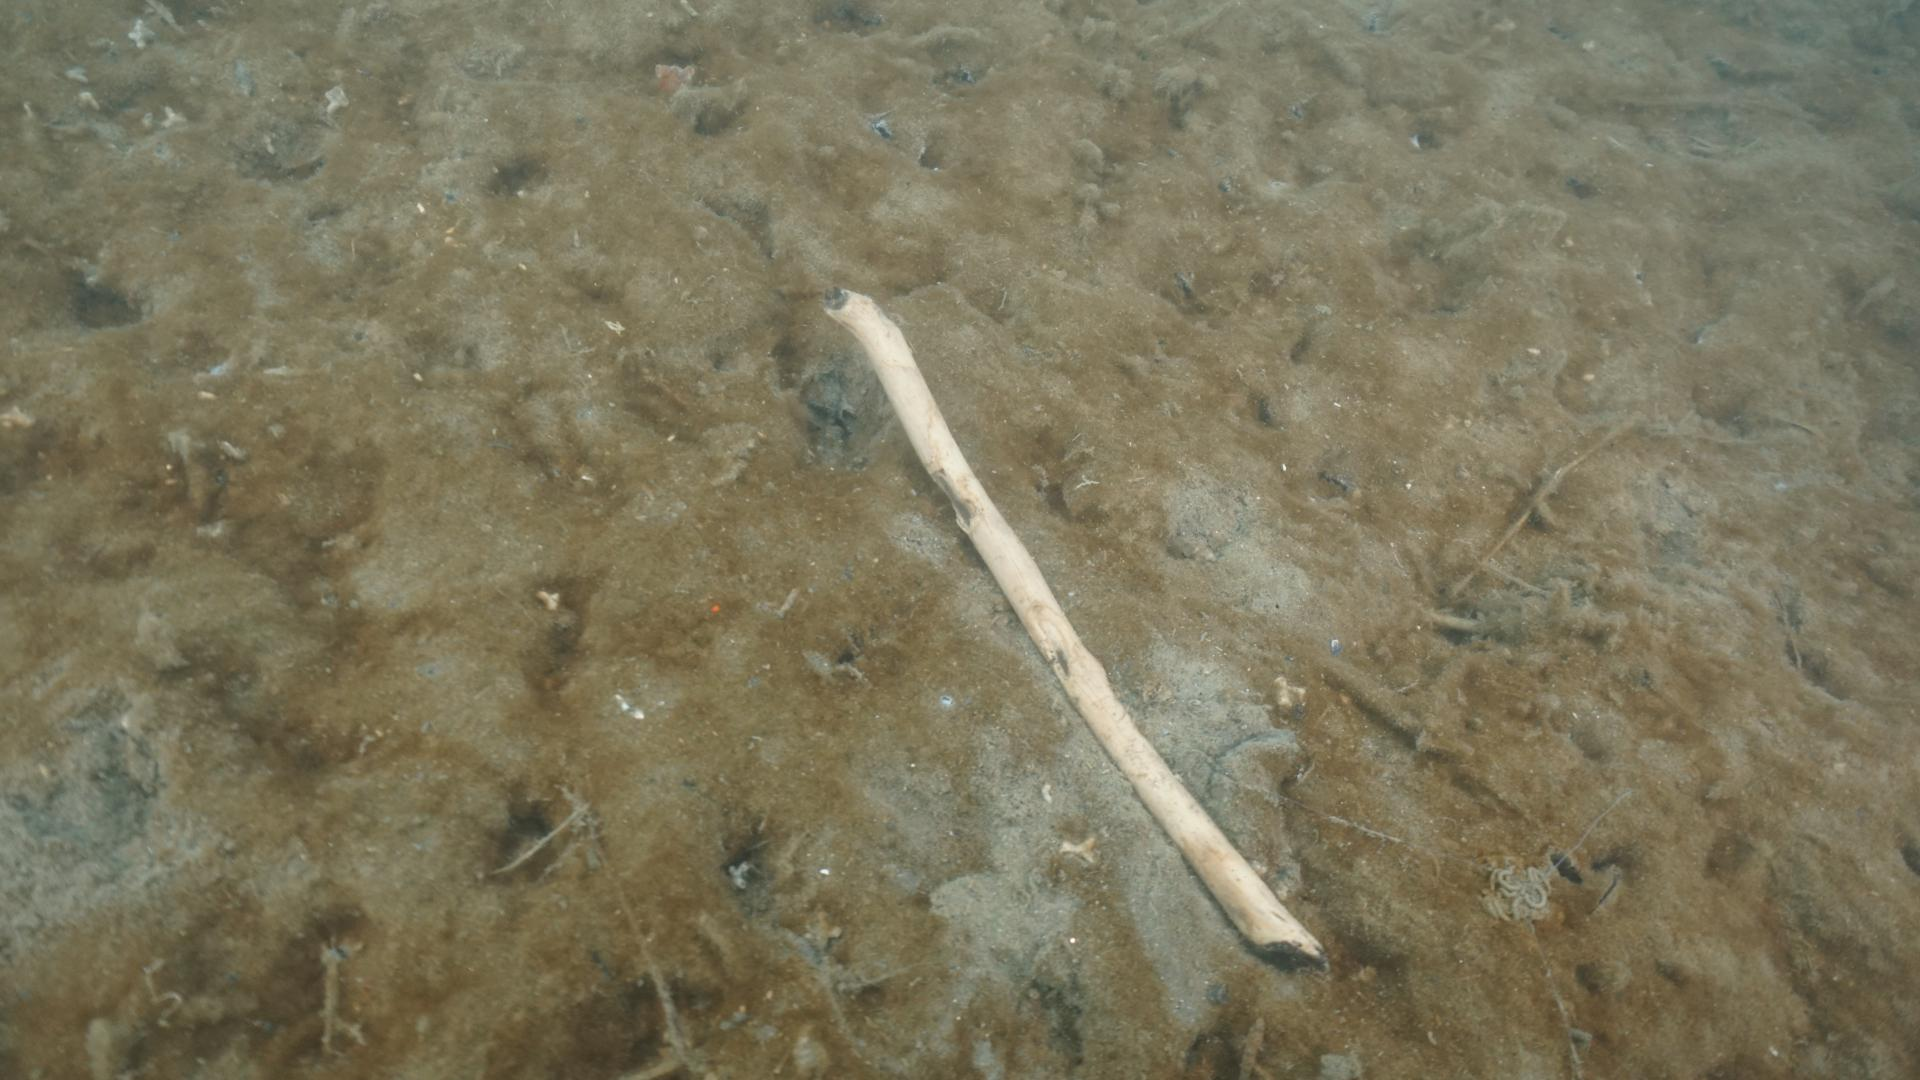wood: (825, 281, 1317, 973)
